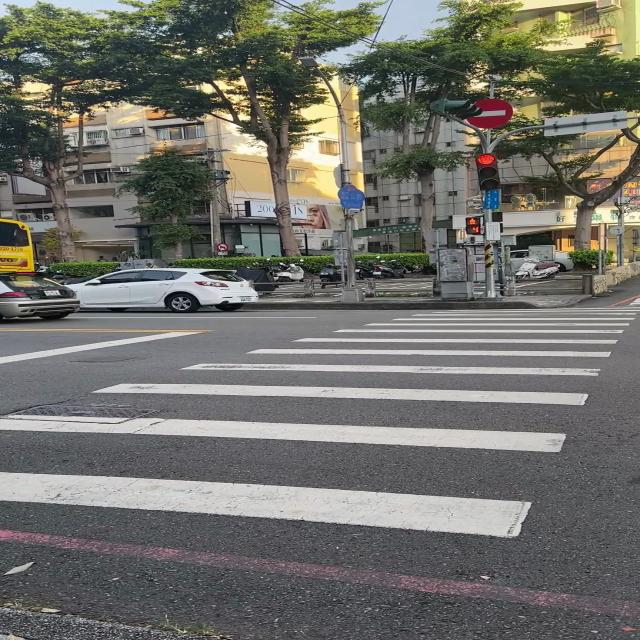bus: (0, 219, 35, 273)
car: (68, 268, 258, 312), (0, 274, 79, 318)
crosswalk: (0, 306, 640, 541)
